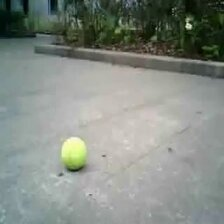tennis: (61, 137, 87, 170)
